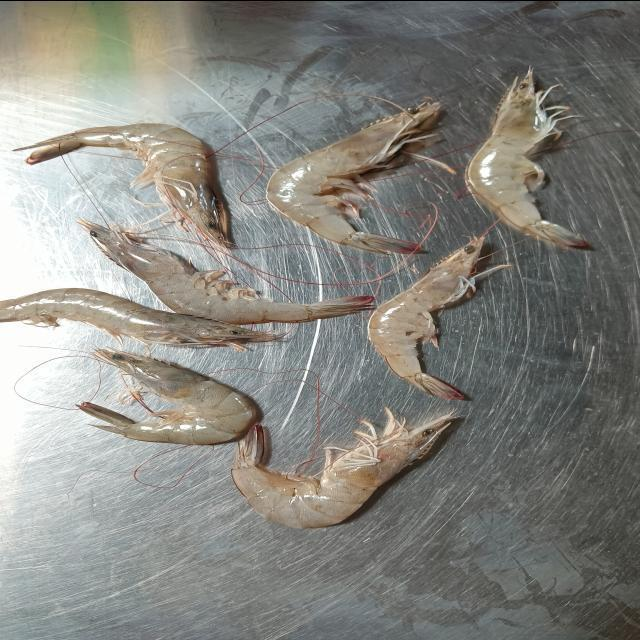shrimp: (77, 219, 372, 324), (268, 100, 456, 252), (15, 122, 232, 248), (232, 408, 452, 528), (367, 236, 514, 399), (467, 70, 587, 246), (77, 348, 257, 444), (0, 288, 279, 349), (261, 506, 266, 508)
